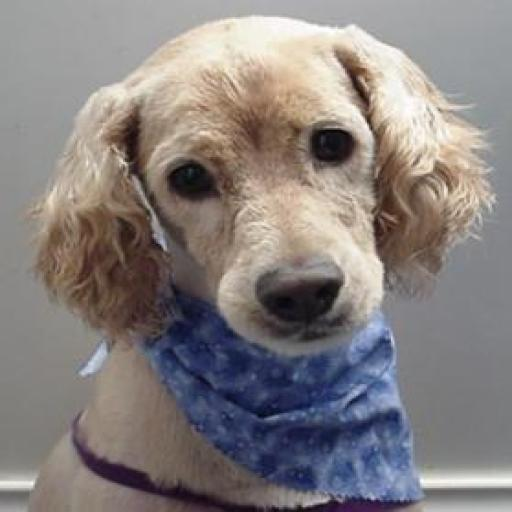dog_face: (48, 33, 490, 349)
